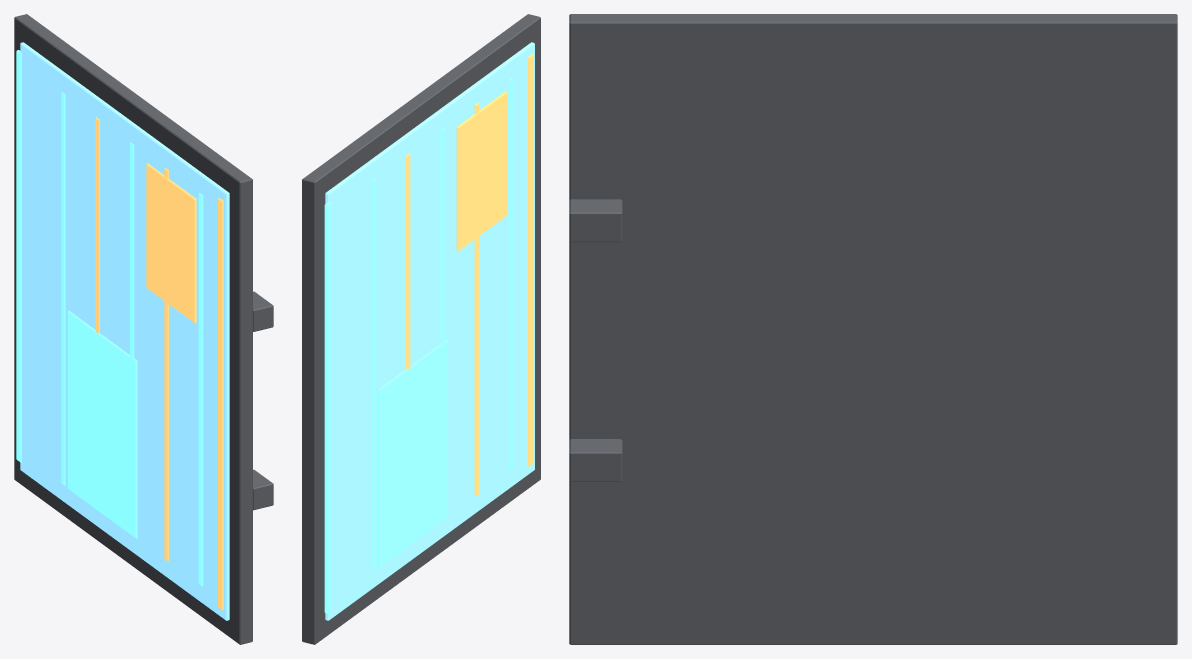
Rendered from ad_board_mega.glb.
3 renders of one model, left to right at view 1: azimuth 30°, elevation 25°; view 2: azimuth 150°, elevation 25°; view 3: azimuth 270°, elevation 25°, orthographic. The views are drawn at different scales.
Visible parts, largest first — view 1: AdBoard_mega; view 2: AdBoard_mega; view 3: AdBoard_mega.
Boxes of the visible parts, x1,y1,x2,y2 form: AdBoard_mega: (14,14,273,644); AdBoard_mega: (302,14,540,644); AdBoard_mega: (569,14,1177,644).
Size of the model in its own units: 0.47 by 5.2 by 4.6.
